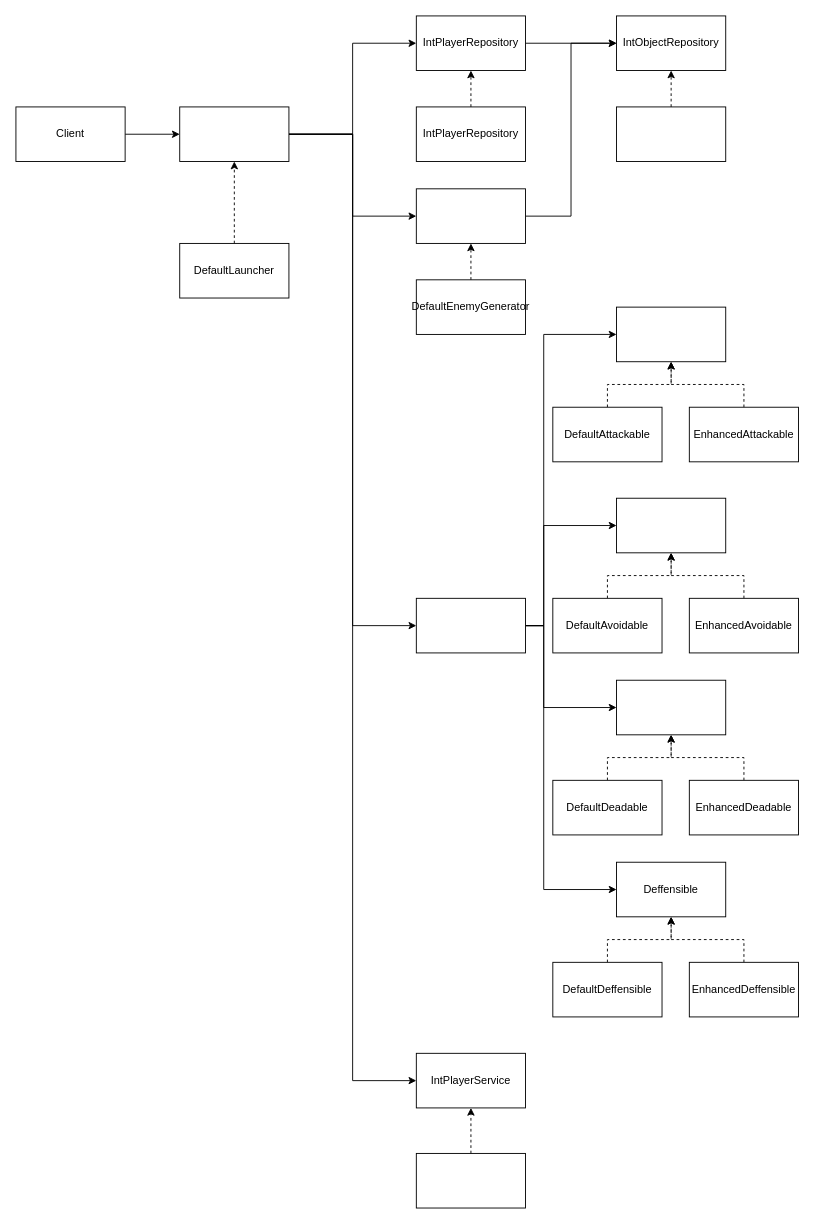
This 814x1224 diagram has some shape labels left out. Here are the shapes that lost their labels. From the top down, the box of each, then its label:
(179, 106, 289, 162): Launcher
(616, 106, 726, 162): DefaultIntObjectRepository
(415, 188, 526, 243): EnemyGenerator
(616, 306, 726, 362): Attackable
(616, 497, 726, 553): Avoidable
(415, 597, 526, 653): IntObjectService
(616, 679, 726, 735): Deadable
(415, 1153, 526, 1208): DefaultIntPlayerService
